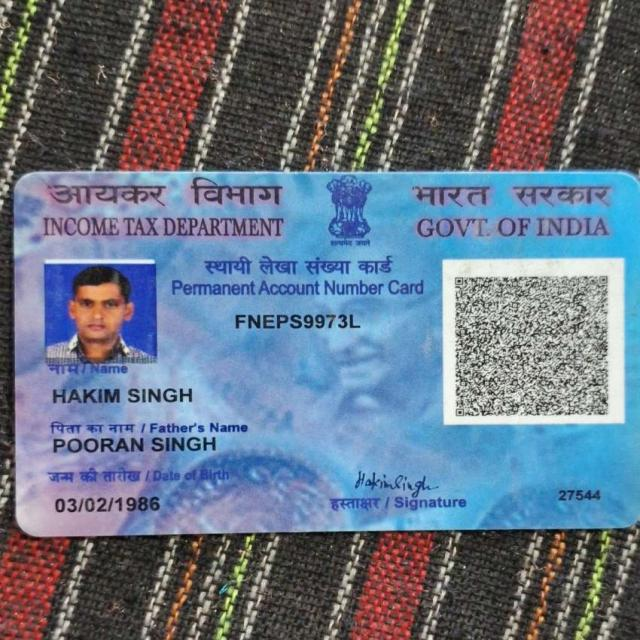pan_card: (16, 172, 635, 535)
